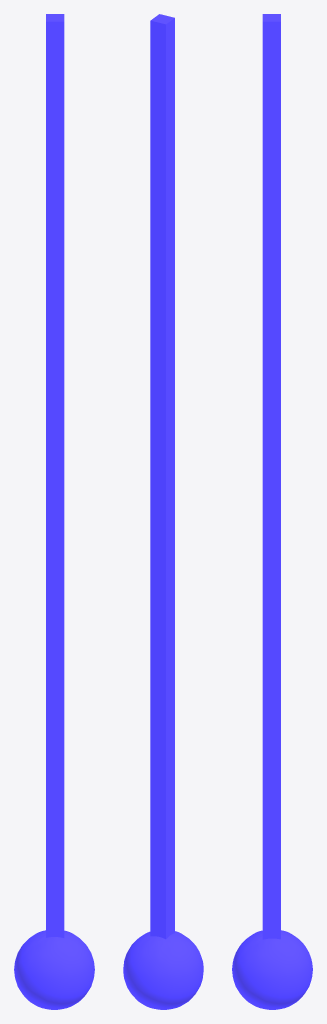
Rendered from NewWebMenuModuliListner5.gltf.
3 renders of one model, left to right at view 1: azimuth 90°, elevation 25°; view 2: azimuth 150°, elevation 25°; view 3: azimuth 270°, elevation 25°, orthographic.
Visible parts, largest first — view 1: ListnerModuli; view 2: ListnerModuli; view 3: ListnerModuli.
Part boxes in pixels (left/top/right/bottom): ListnerModuli: left=14, top=14, right=94, bottom=1009; ListnerModuli: left=123, top=14, right=203, bottom=1009; ListnerModuli: left=232, top=14, right=312, bottom=1009.
Bounding box in the file's own units: 0.0421 × 0.5671 × 0.0421.
